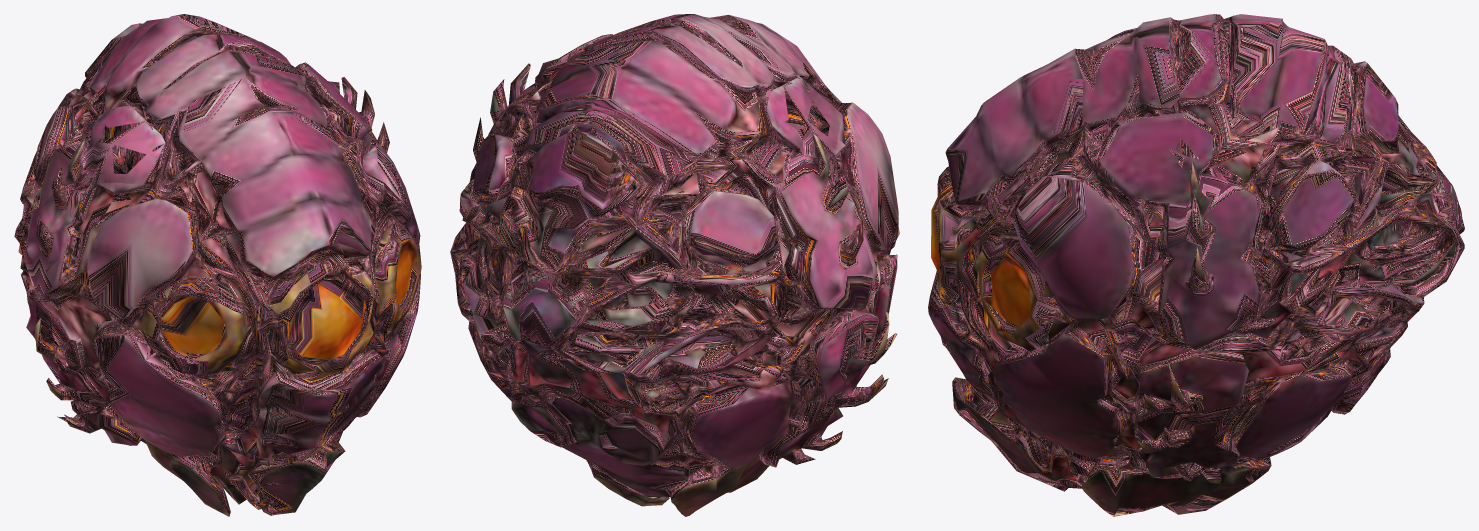
3 views of the same model, side by side, from view 1: azimuth 30°, elevation 25°; view 2: azimuth 150°, elevation 25°; view 3: azimuth 270°, elevation 25° (orthographic). The views are drawn at different scales.
Size of the model in its own units: 0.8913 by 1 by 1.
Materials: 1 (1 with a texture image).
